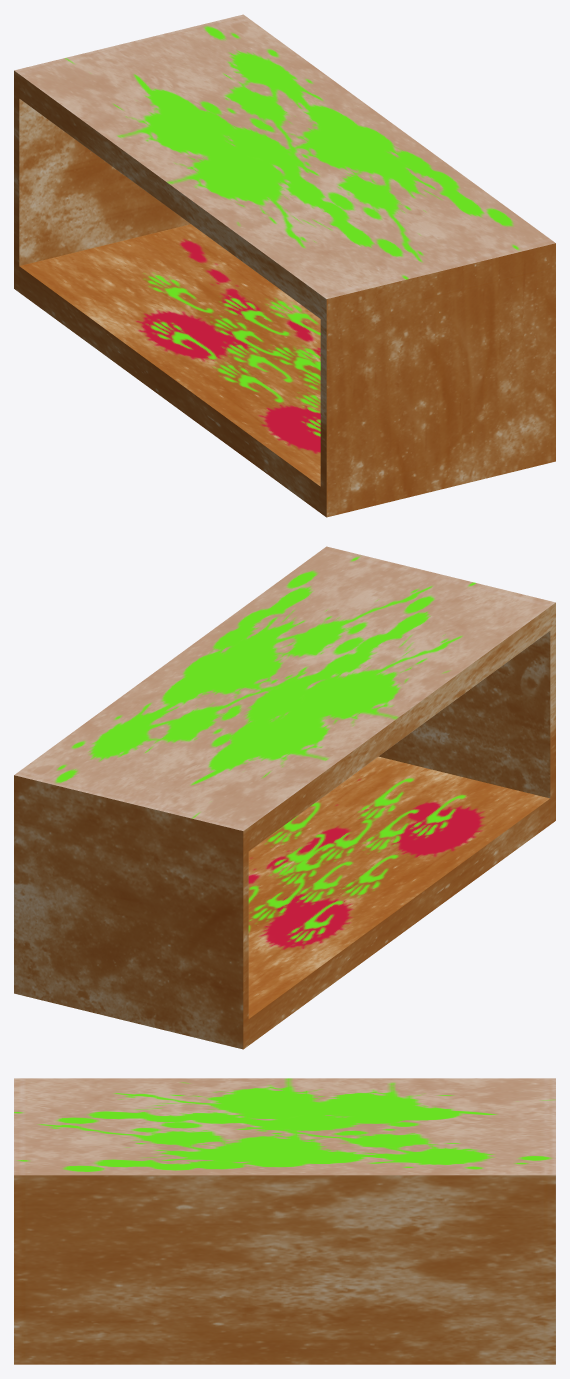
File: Counter2.fbx
3 renders of one model, top to bottom at view 1: azimuth 30°, elevation 25°; view 2: azimuth 150°, elevation 25°; view 3: azimuth 270°, elevation 25°, orthographic. The views are drawn at different scales.
Parts seen in each view (by area): view 1: Counter 2; view 2: Counter 2; view 3: Counter 2.
Part boxes in pixels (box(x1,y1,x2,y2)): Counter 2: box(14, 14, 555, 517); Counter 2: box(14, 546, 555, 1049); Counter 2: box(14, 1078, 555, 1364).
Size of the model in its own units: 110 by 100 by 259.
